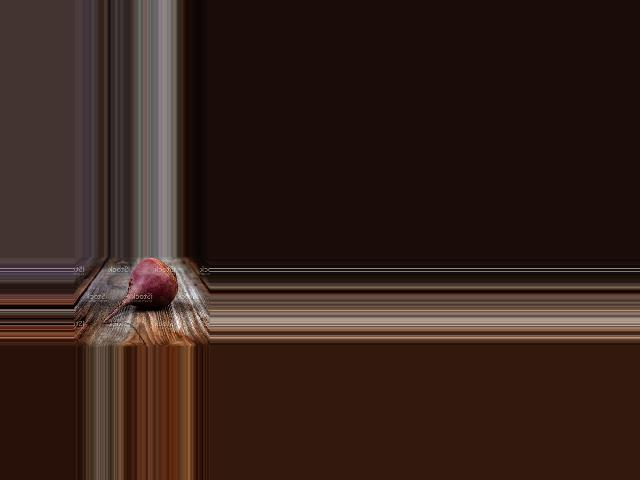beet: (102, 258, 177, 323)
